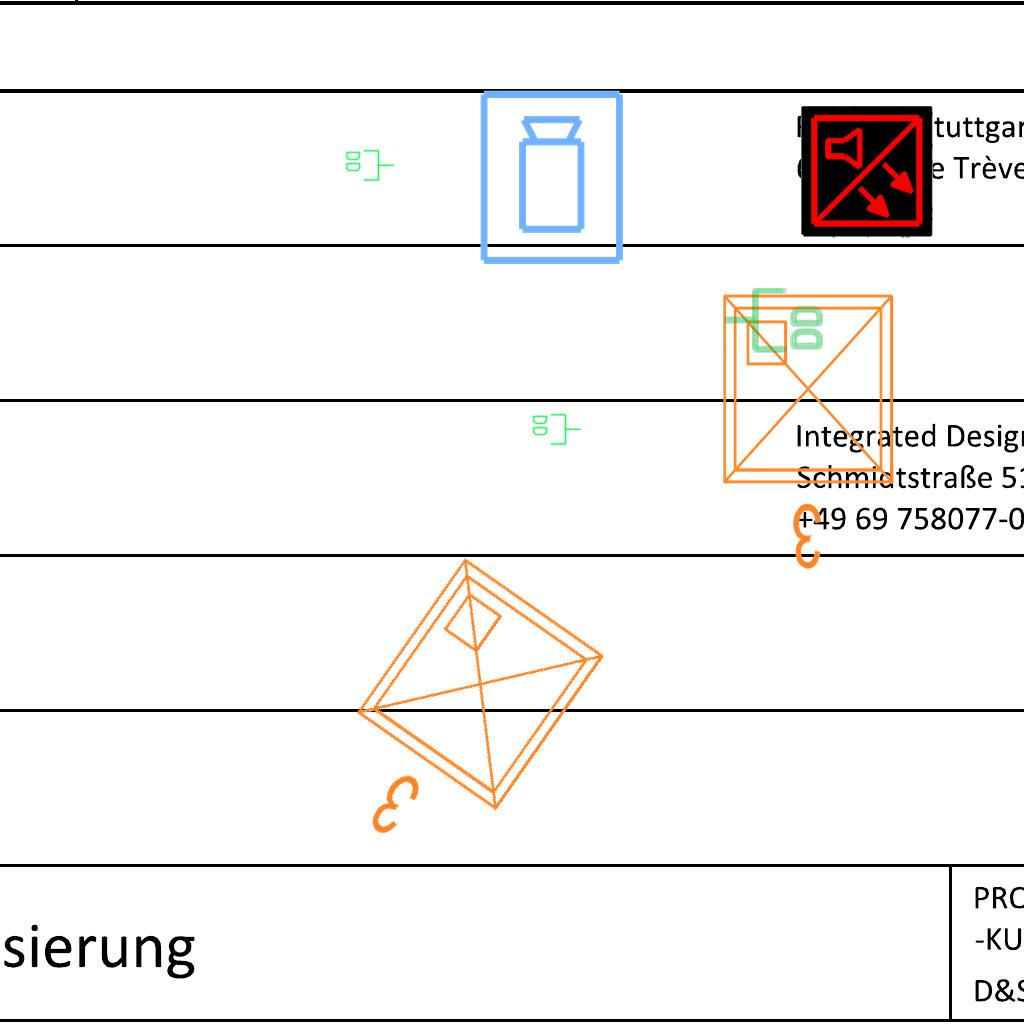Datenanschluss_zweifach: (722, 286, 825, 355), (344, 148, 395, 182), (531, 412, 582, 446)
Einbaudownlights_LED_Konferenzraeume: (288, 537, 632, 903), (708, 280, 916, 580)
KFO_Kamera_mit_Festobjektiv: (476, 87, 630, 269)
OKW_Multisensormelder_(Kombination_optischer_Rauch-Kahlenmonoxid_Waerme-Melder): (801, 106, 933, 238)
